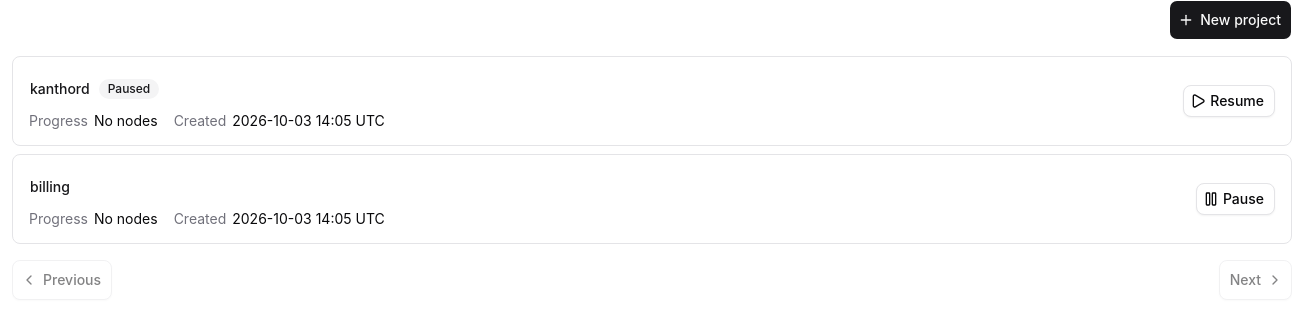
Test case: ProjectsScreen › resumes a paused project from its row after it reads the project again
The width and height of the screenshot is (1304, 317).
Click the button with aria-label "Resume kanthord".
click(1229, 101)  # box [1183,85,1275,117]
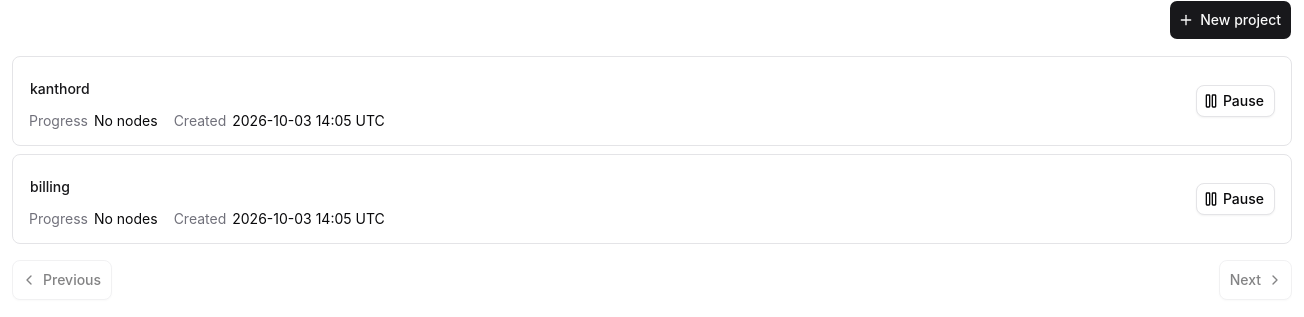
Expected: the button with aria-label "Pause billing" is shown, [1196,183,1275,215]
Expected: the button with aria-label "Pause kanthord" is shown, [1196,85,1275,117]
